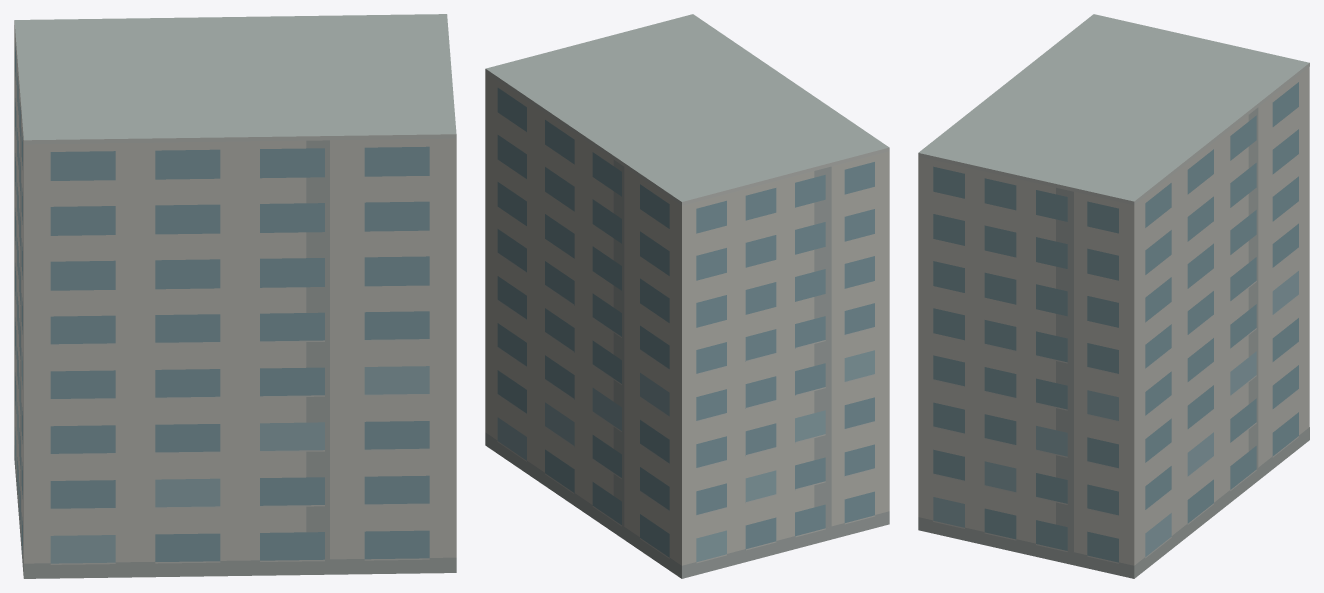
Rendered from residential-55ef4921-833a-4bfd-a3e4-4343583bbd0d.glb.
3 renders of one model, left to right at view 1: azimuth 30°, elevation 25°; view 2: azimuth 150°, elevation 25°; view 3: azimuth 270°, elevation 25°, orthographic. The views are drawn at different scales.
Parts seen in each view (by area): view 1: residential-55ef4921-833a-4bfd-a3e4-4343583bbd0d.tmp; view 2: residential-55ef4921-833a-4bfd-a3e4-4343583bbd0d.tmp; view 3: residential-55ef4921-833a-4bfd-a3e4-4343583bbd0d.tmp.
Part boxes in pixels (x1,y1,x2,y2): residential-55ef4921-833a-4bfd-a3e4-4343583bbd0d.tmp: (14,14,456,578); residential-55ef4921-833a-4bfd-a3e4-4343583bbd0d.tmp: (485,14,889,578); residential-55ef4921-833a-4bfd-a3e4-4343583bbd0d.tmp: (918,14,1309,578).
Bounding box in the file's own units: 26.02 × 24.4 × 22.95.
